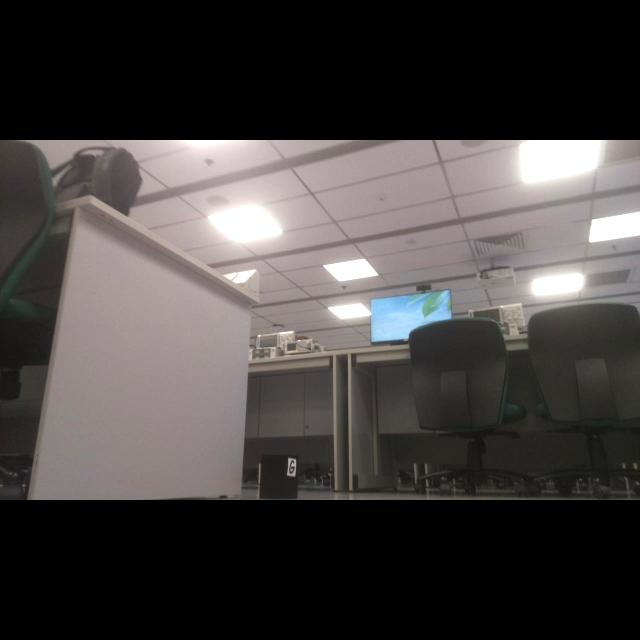G: (290, 461, 295, 474)
